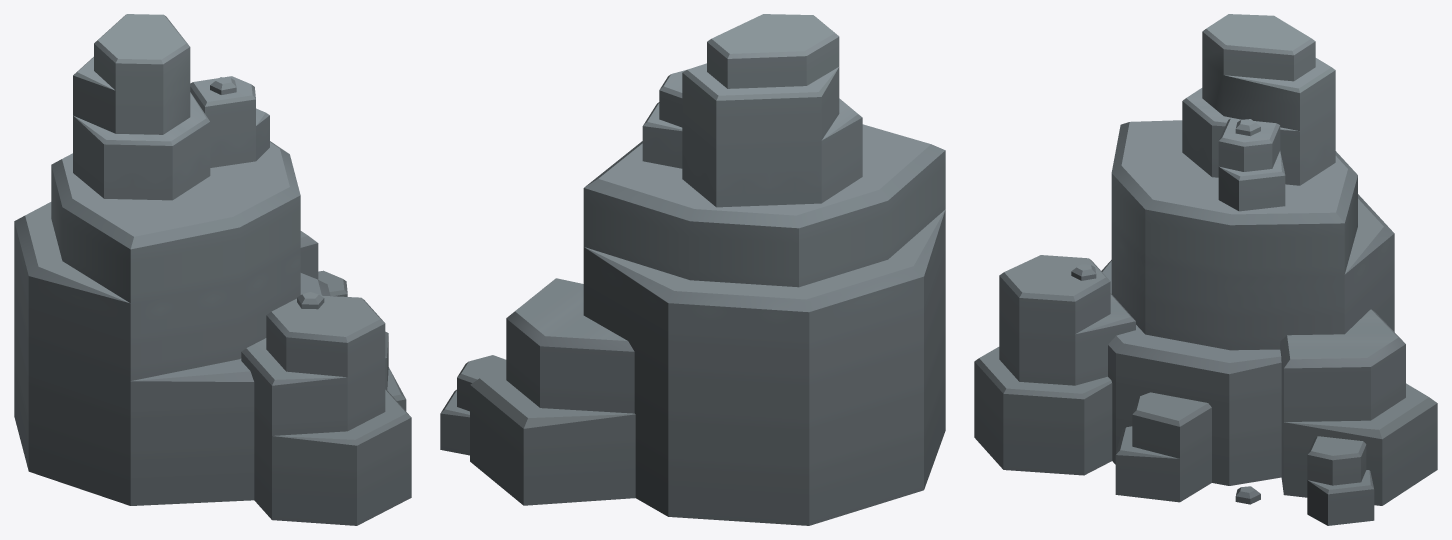
File: Rock_1_J_Color1.gltf
3 renders of one model, left to right at view 1: azimuth 30°, elevation 25°; view 2: azimuth 150°, elevation 25°; view 3: azimuth 270°, elevation 25°, orthographic. The views are drawn at different scales.
Visible parts, largest first — view 1: Rock_1_J_Color1; view 2: Rock_1_J_Color1; view 3: Rock_1_J_Color1.
Part boxes in pixels (x1,y1,x2,y2): Rock_1_J_Color1: [14, 14, 411, 525]; Rock_1_J_Color1: [440, 14, 945, 525]; Rock_1_J_Color1: [974, 14, 1437, 525].
Size of the model in its own units: 3.39 by 3.36 by 3.76.
1 material, 1 textured.
